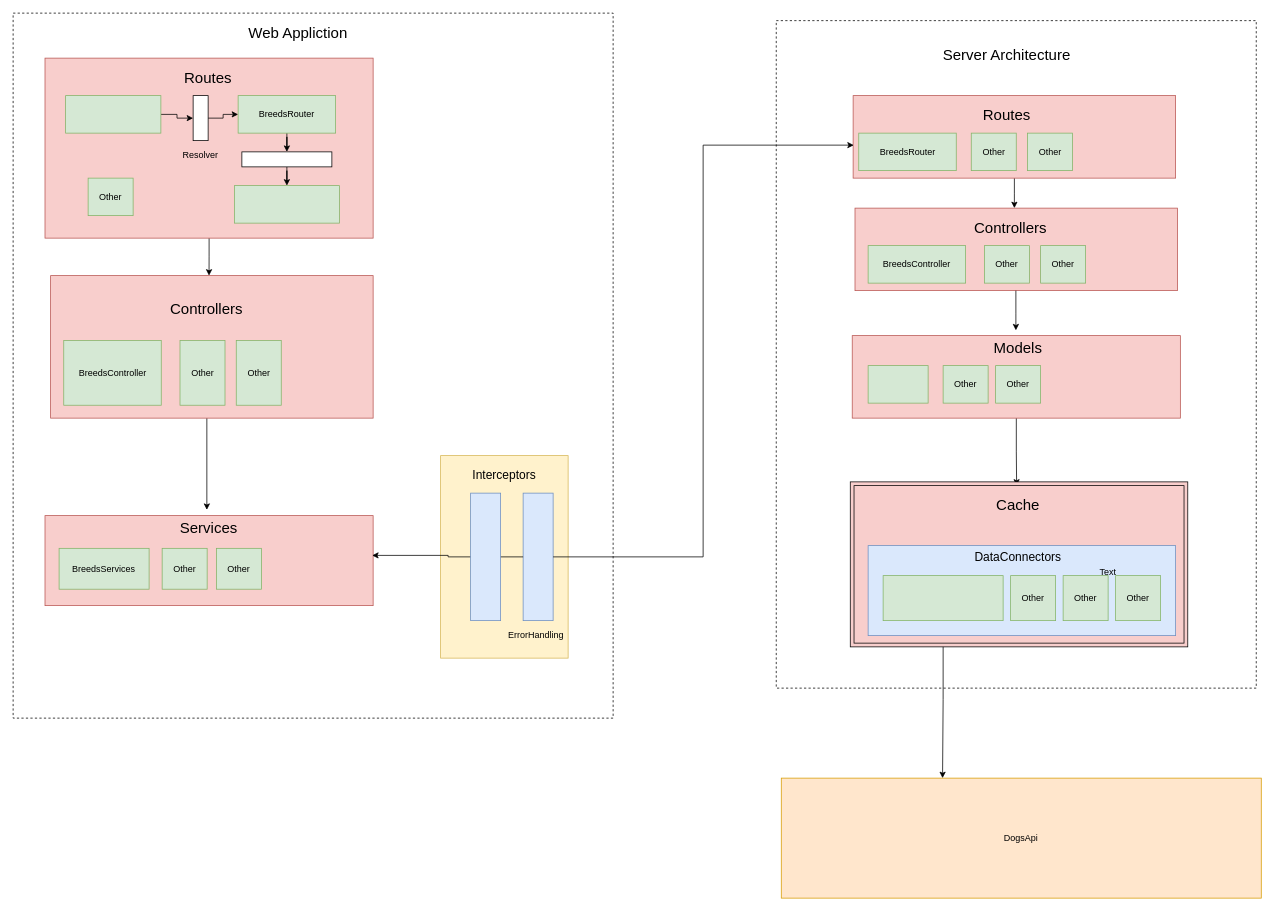
Image size: 1275x911. Some labels were removed from this diagram. The centre of each missing label's shape, as x and y in pixels:
BreedModel: pixel 897 384
BreedsDataConnector: pixel 942 598
DetailsRoute: pixel 286 204
Home: pixel 113 114
